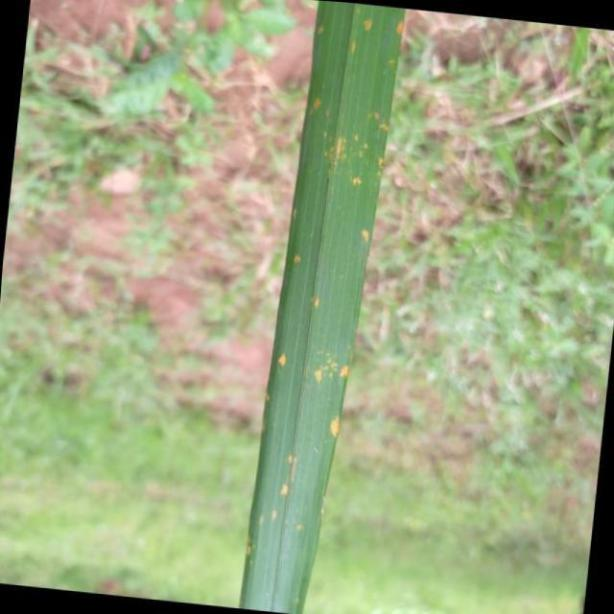Kalium: (240, 0, 406, 614)
